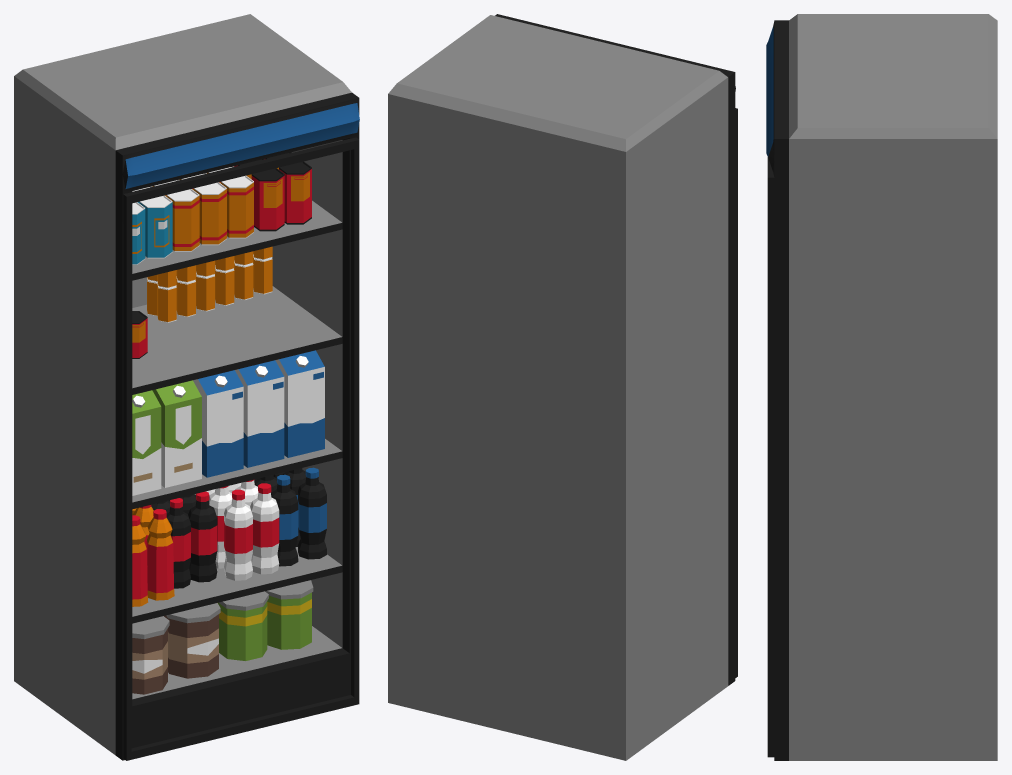
The model's file is SM_fridge_01.fbx.
3 views of the same model, side by side, from view 1: azimuth 30°, elevation 25°; view 2: azimuth 150°, elevation 25°; view 3: azimuth 270°, elevation 25° (orthographic). The views are drawn at different scales.
Visible parts, largest first — view 1: SM_fridge_01; view 2: SM_fridge_01; view 3: SM_fridge_01.
Part boxes in pixels (left/top/right/bottom): SM_fridge_01: left=14, top=14, right=359, bottom=760; SM_fridge_01: left=388, top=14, right=737, bottom=760; SM_fridge_01: left=766, top=14, right=997, bottom=760.
Size of the model in its own units: 100 by 248 by 82.29.
